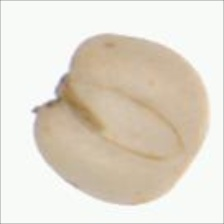L5: (67, 80, 184, 163), (30, 46, 82, 121), (163, 140, 206, 195)
L6: (29, 30, 213, 210)
